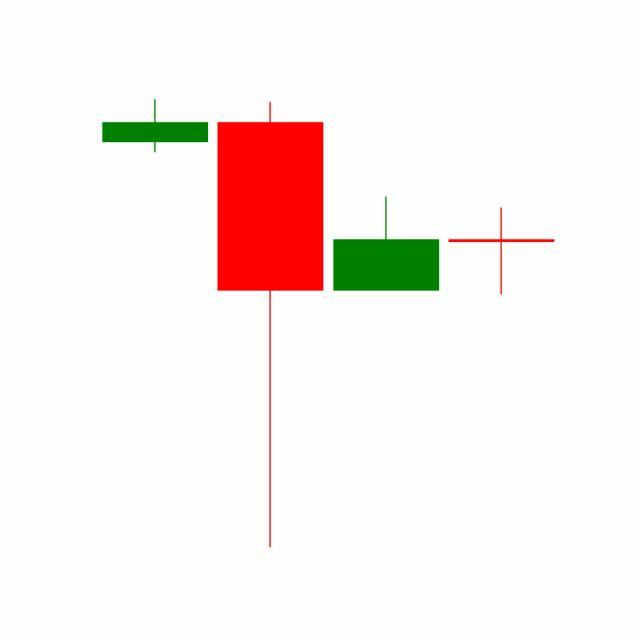Spinning Top: (444, 207, 560, 298)
